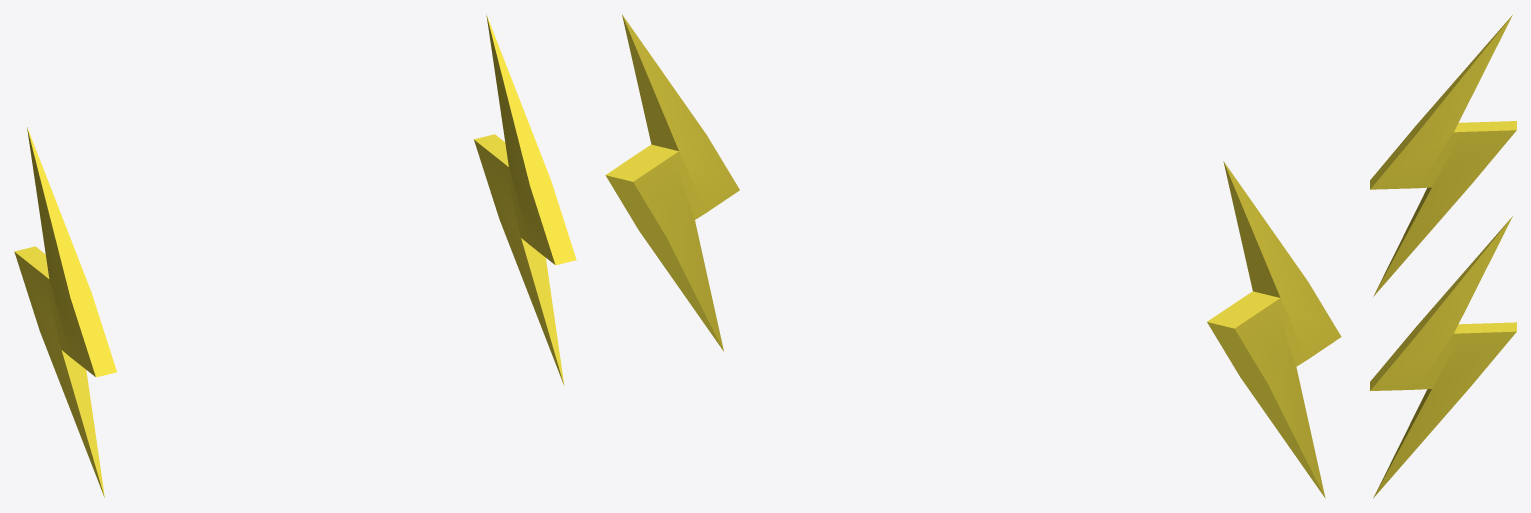
File: flash.fbx
3 views of the same model, side by side, from view 1: azimuth 30°, elevation 25°; view 2: azimuth 150°, elevation 25°; view 3: azimuth 270°, elevation 25° (orthographic). The views are drawn at different scales.
Parts seen in each view (by area): view 1: flash; view 2: flash; view 3: flash.
Part boxes in pixels (x1,y1,x2,y2): flash: (14, 14, 576, 497); flash: (605, 14, 1341, 498); flash: (1370, 15, 1516, 498).
Size of the model in its own units: 121 by 75.65 by 35.51.
